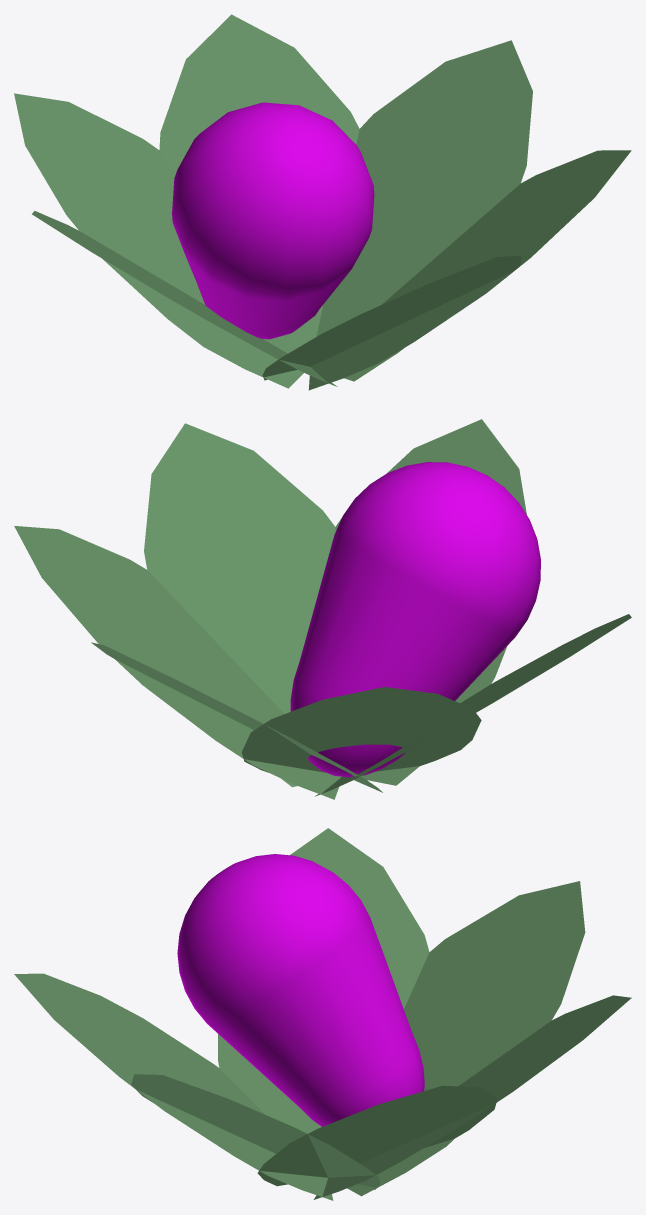
File: fruitPlant 1.fbx
The picture shows the model from 3 angles, top to bottom: view 1: azimuth 30°, elevation 25°; view 2: azimuth 150°, elevation 25°; view 3: azimuth 270°, elevation 25°; orthographic projection. The views are drawn at different scales.
Visible parts, largest first — view 1: fruitPlant; view 2: fruitPlant; view 3: fruitPlant.
Boxes of the visible parts, <box> form: fruitPlant: <box>14,14,631,390</box>; fruitPlant: <box>14,419,631,799</box>; fruitPlant: <box>14,828,631,1200</box>.
Bounding box in the file's own units: 146 × 74.99 × 148.
